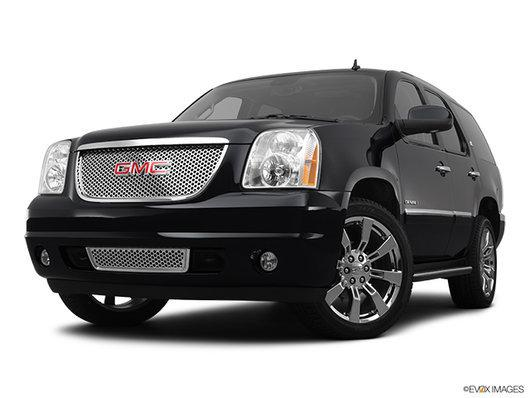GMC: (110, 155, 173, 182)
